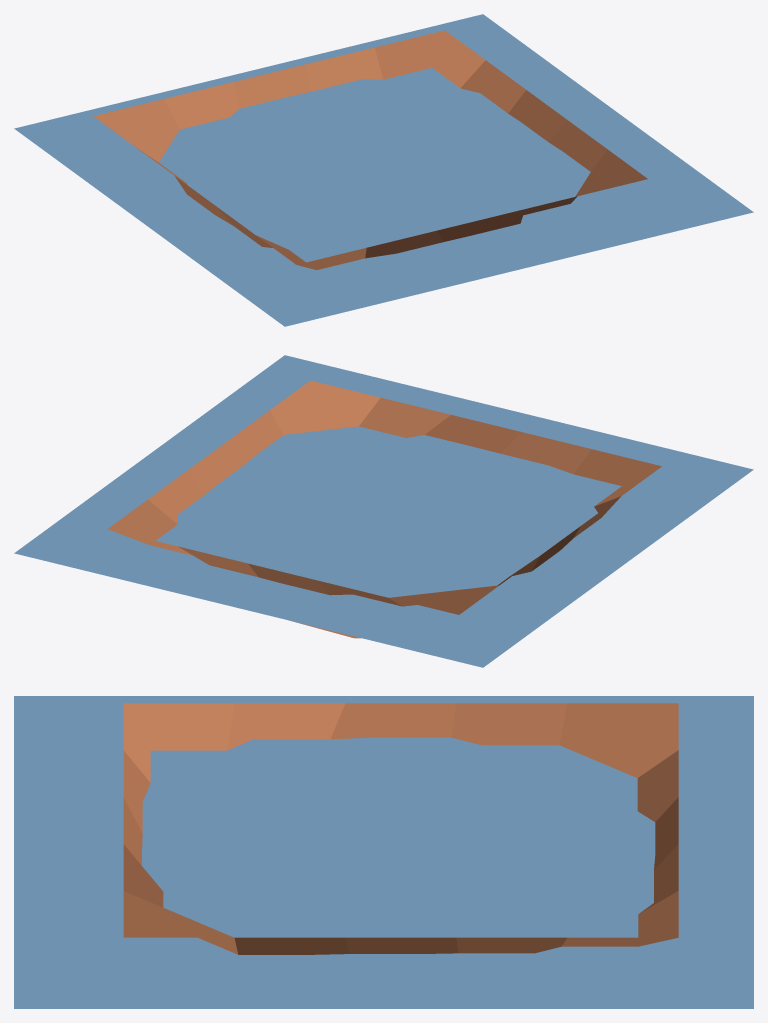
File: PUDDLE_1.fbx
3 views of the same model, one above another, from view 1: azimuth 30°, elevation 25°; view 2: azimuth 150°, elevation 25°; view 3: azimuth 270°, elevation 25° (orthographic). The views are drawn at different scales.
Parts seen in each view (by area): view 1: Plane.001; view 2: Plane.001; view 3: Plane.001.
Boxes of the visible parts, left/top/right/bottom form: Plane.001: left=14, top=14, right=753, bottom=326; Plane.001: left=14, top=355, right=753, bottom=667; Plane.001: left=14, top=696, right=753, bottom=1008.
Size of the model in its own units: 200 by 27.56 by 200.
1 material, 1 textured.
